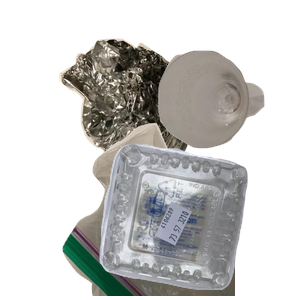glass: (156, 48, 300, 189)
metal: (57, 36, 241, 216)
plastic: (97, 141, 300, 300)
trash: (60, 120, 300, 300)
